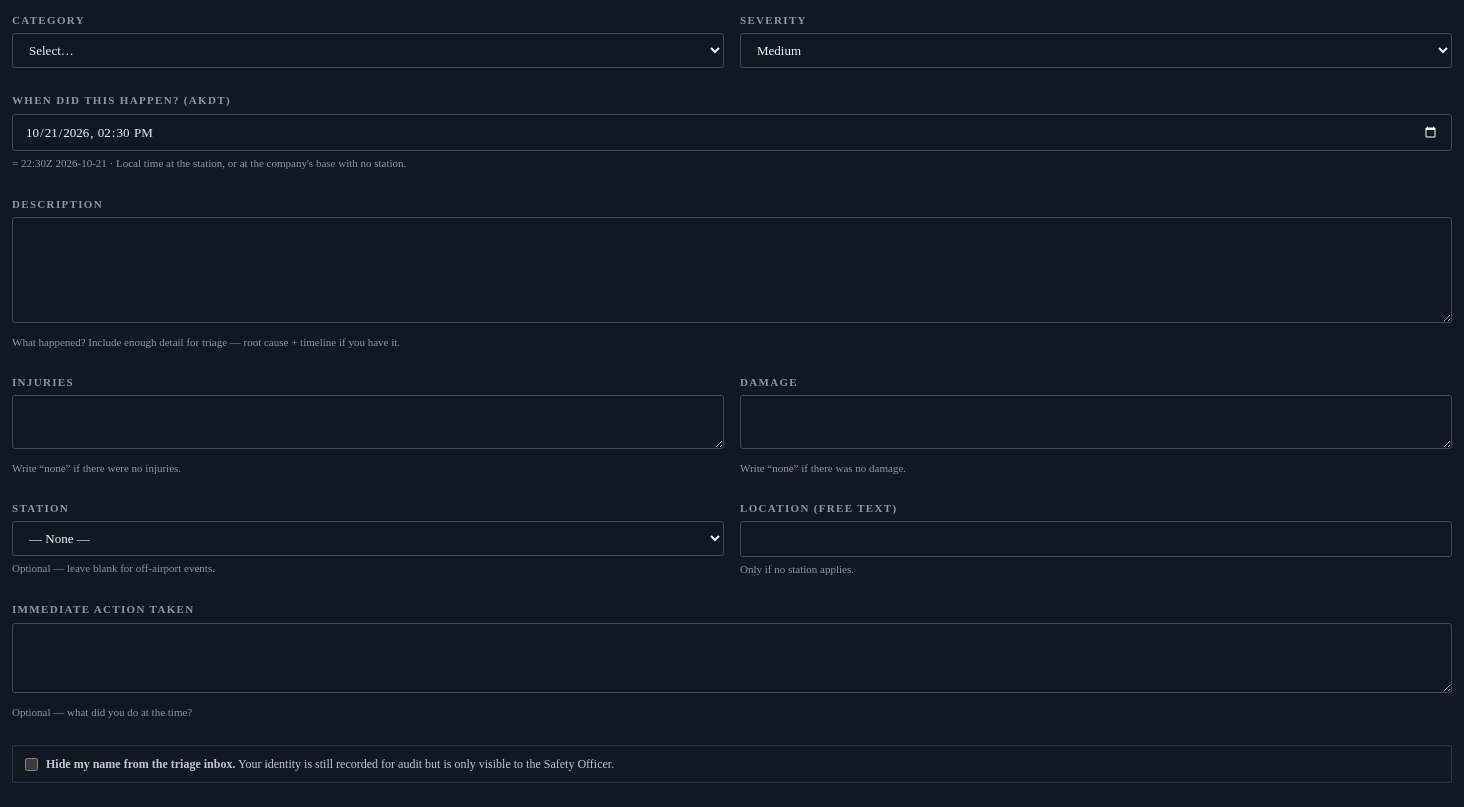
Test: IncidentReportForm: the time it happened › shows the Zulu for a time as it is typed
Replace the text in the field labelled "When did this happen? (AKDT)" with "2026-10-21T18:45" at (732, 132), box [12,114,1452,151]
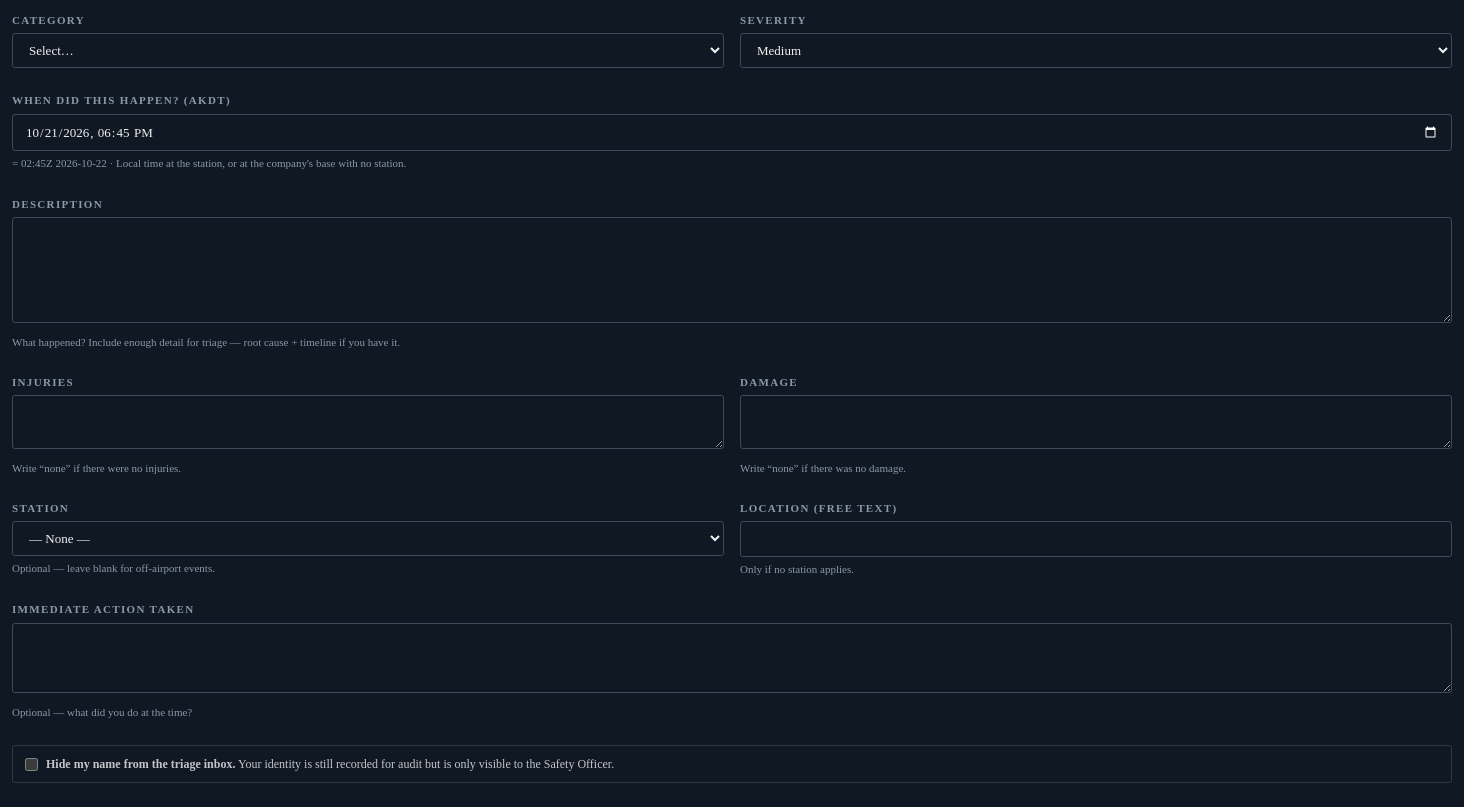
Now the text "= 02:45Z 2026-10-22" is shown, box [12,157,406,169]
